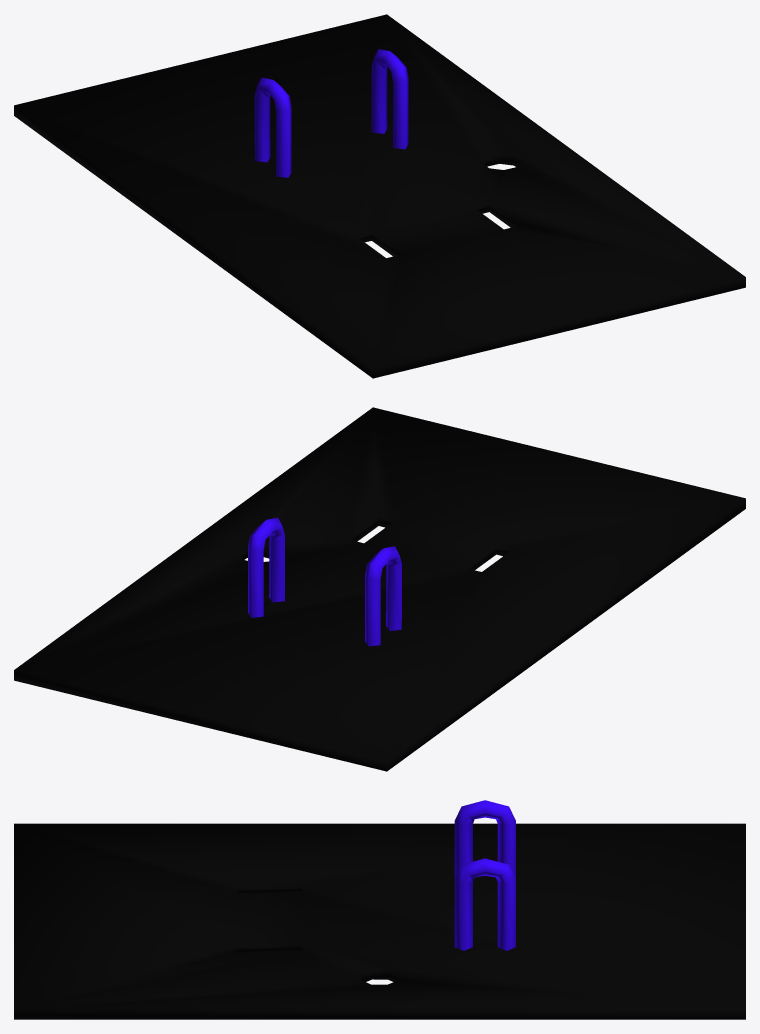
File: office_pack_fileFolder_open_1_meshCollider.fbx
3 renders of one model, top to bottom at view 1: azimuth 30°, elevation 25°; view 2: azimuth 150°, elevation 25°; view 3: azimuth 270°, elevation 25°, orthographic.
Parts seen in each view (by area): view 1: office_pack_fileFolder_open_1_meshCollider; view 2: office_pack_fileFolder_open_1_meshCollider; view 3: office_pack_fileFolder_open_1_meshCollider.
Part boxes in pixels (x1,y1,x2,y2): office_pack_fileFolder_open_1_meshCollider: (14,14,745,378); office_pack_fileFolder_open_1_meshCollider: (14,407,745,771); office_pack_fileFolder_open_1_meshCollider: (14,800,745,1019).
Size of the model in its own units: 23.78 by 5.94 by 39.64.
